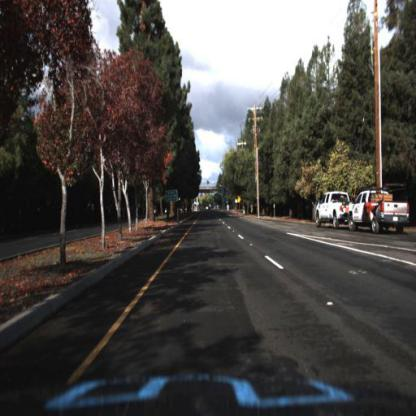car: (350, 189, 412, 235), (315, 188, 352, 233)
